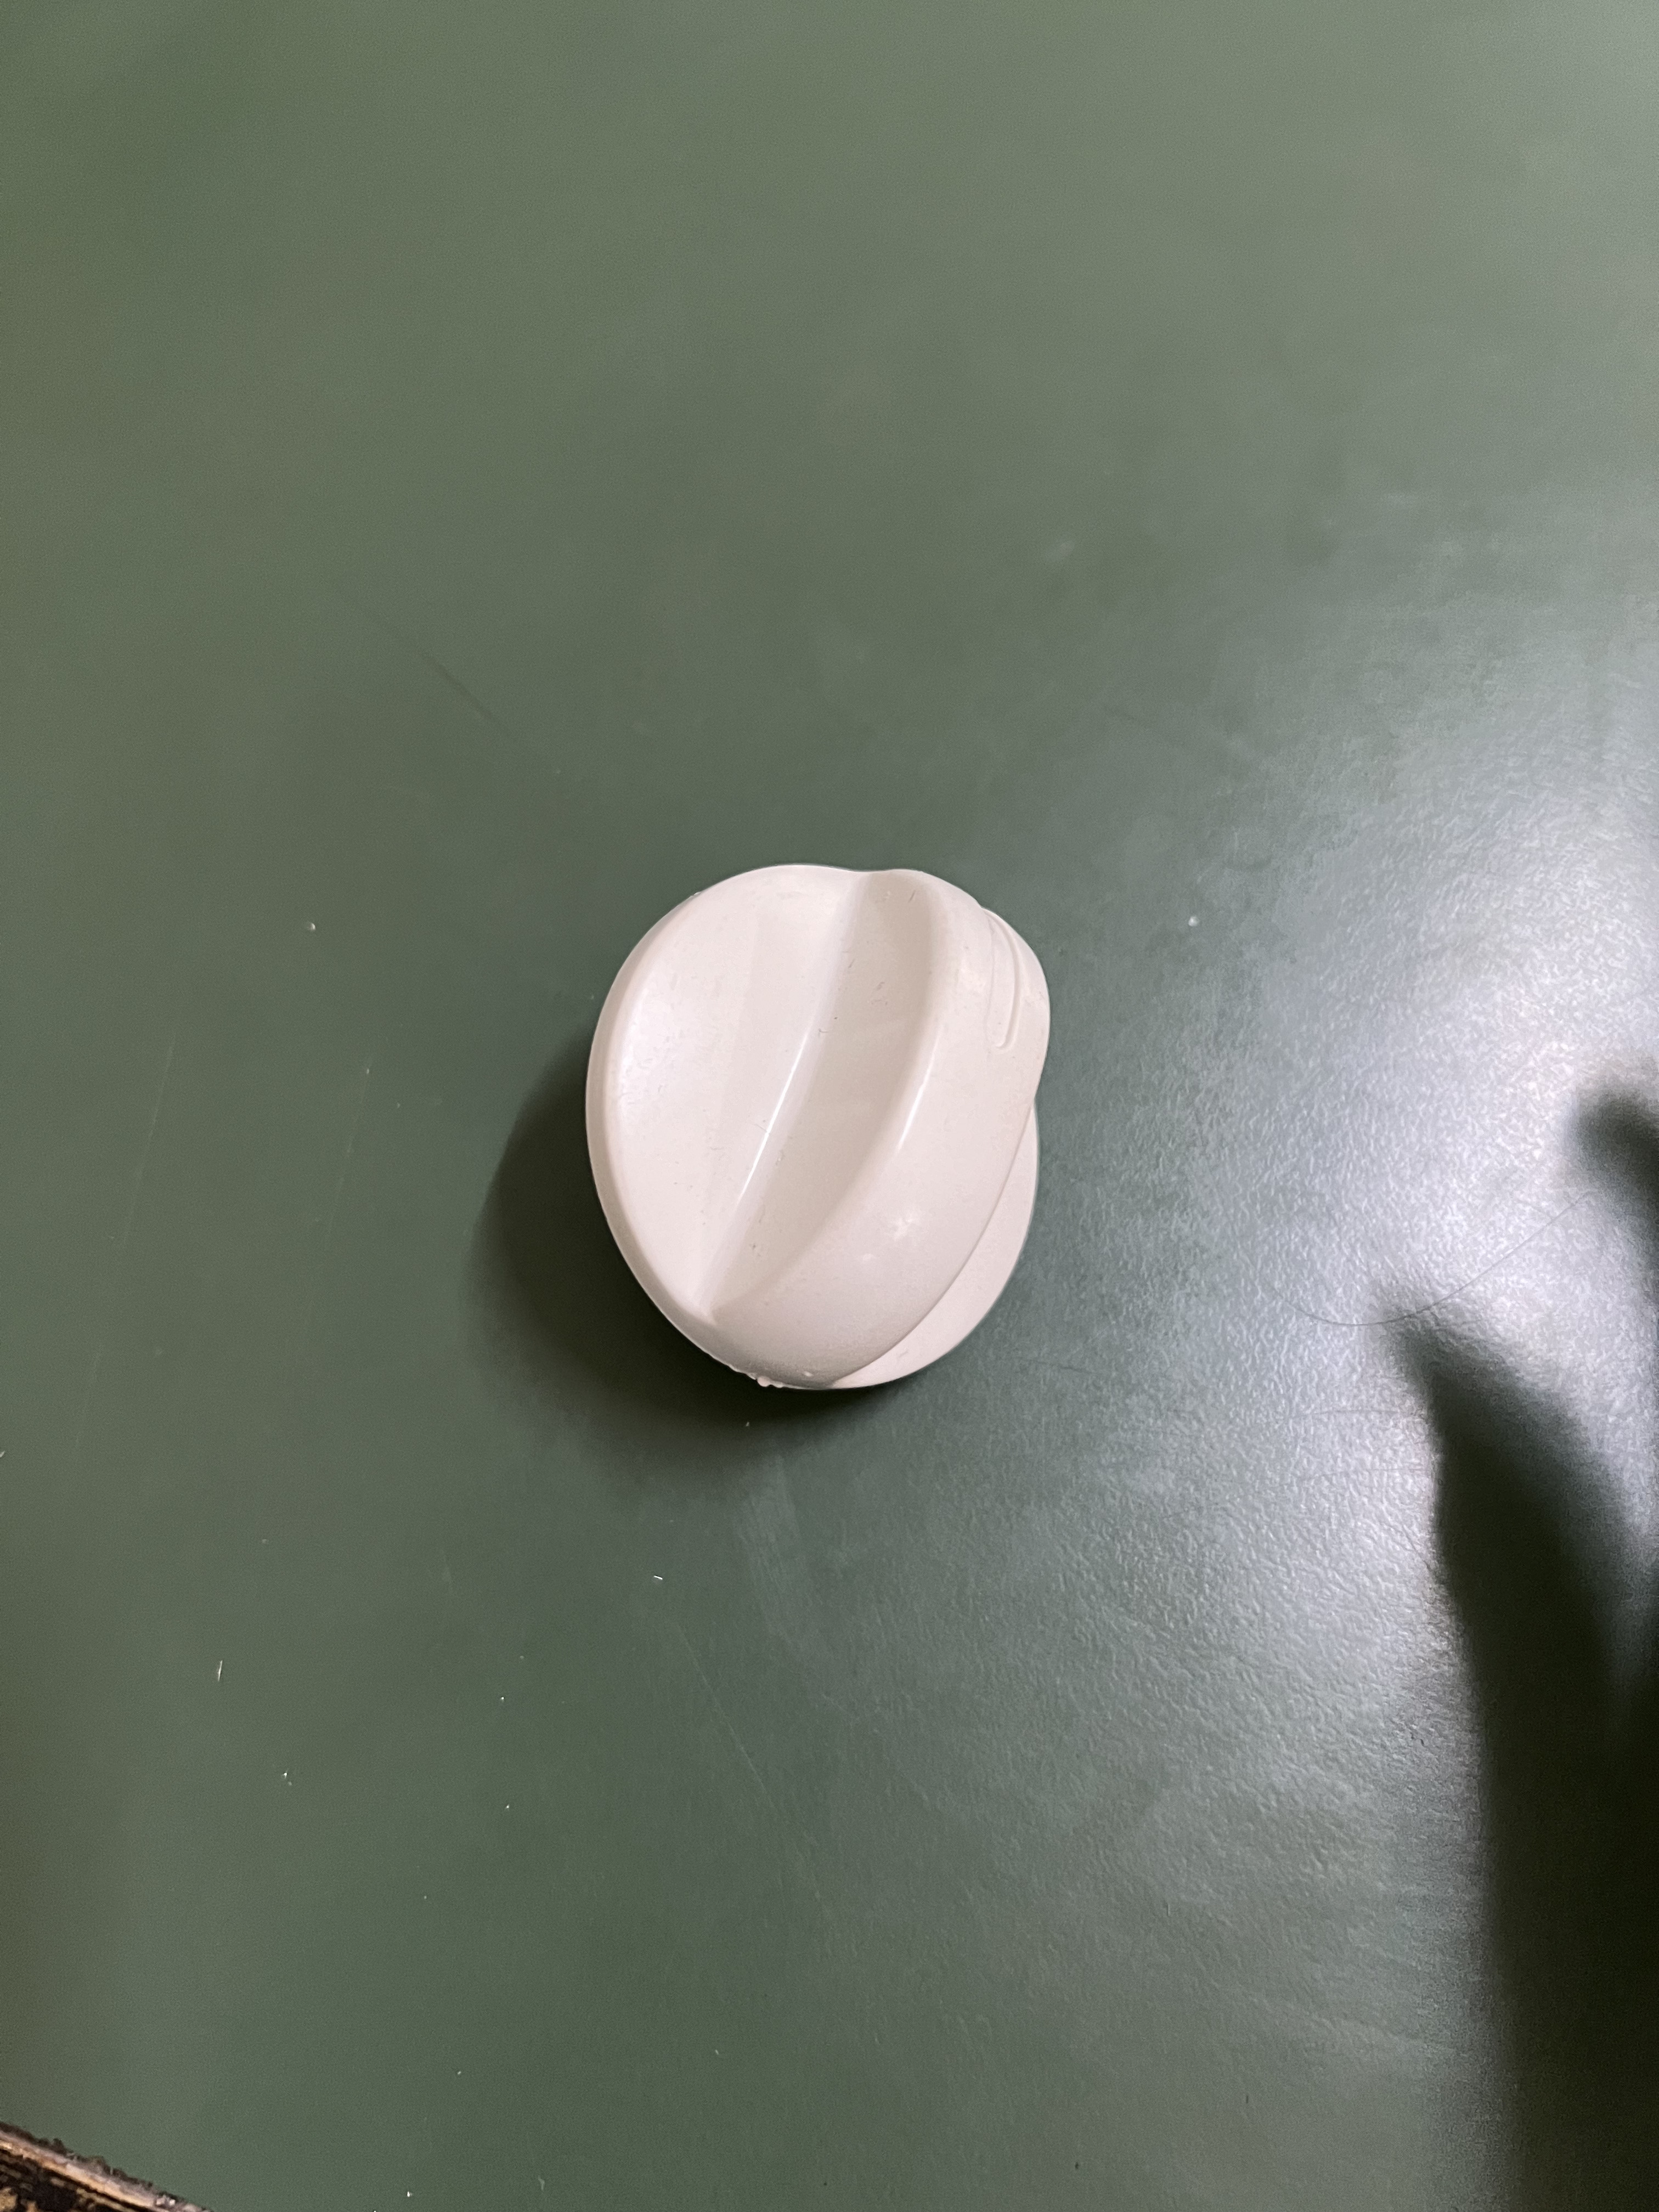regulator: (573, 867, 1061, 1411)
